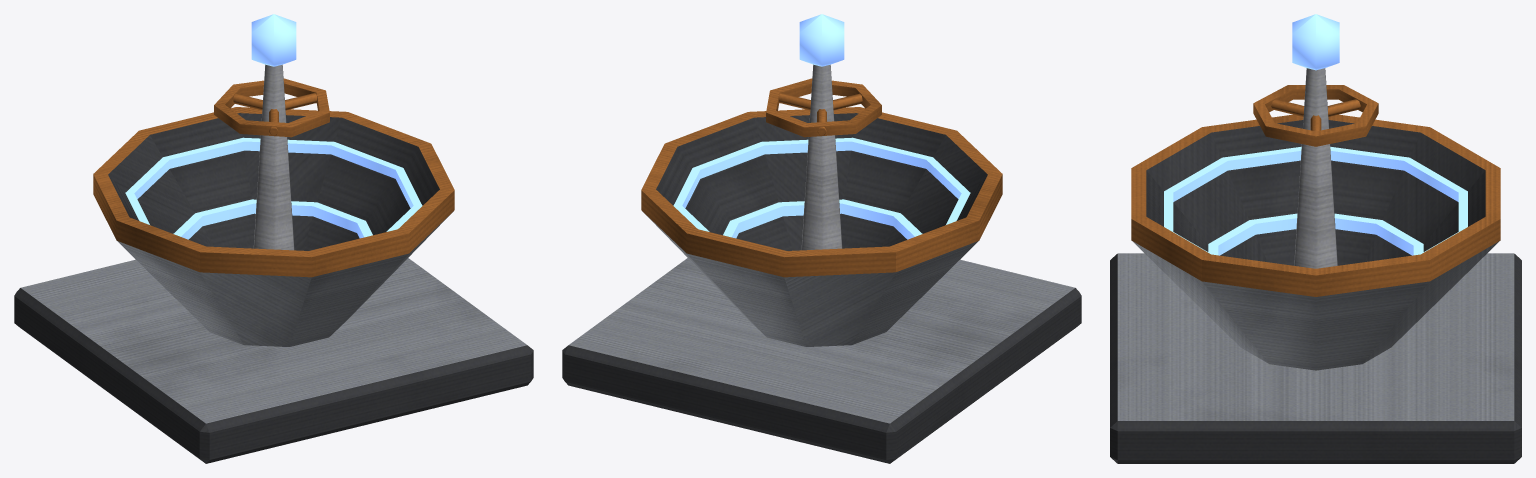
File: R4X_ScannerPulse_LOD1.glb
3 views of the same model, side by side, from view 1: azimuth 30°, elevation 25°; view 2: azimuth 150°, elevation 25°; view 3: azimuth 270°, elevation 25° (orthographic). The views are drawn at different scales.
Visible parts, largest first — view 1: R4X_ScannerPulse_LOD1; view 2: R4X_ScannerPulse_LOD1; view 3: R4X_ScannerPulse_LOD1.
Part boxes in pixels (x1,y1,x2,y2): R4X_ScannerPulse_LOD1: (14, 14, 533, 463); R4X_ScannerPulse_LOD1: (562, 14, 1081, 463); R4X_ScannerPulse_LOD1: (1110, 14, 1521, 463).
Bounding box in the file's own units: 0.52 × 0.51 × 0.52.
5 materials, 4 textured.
